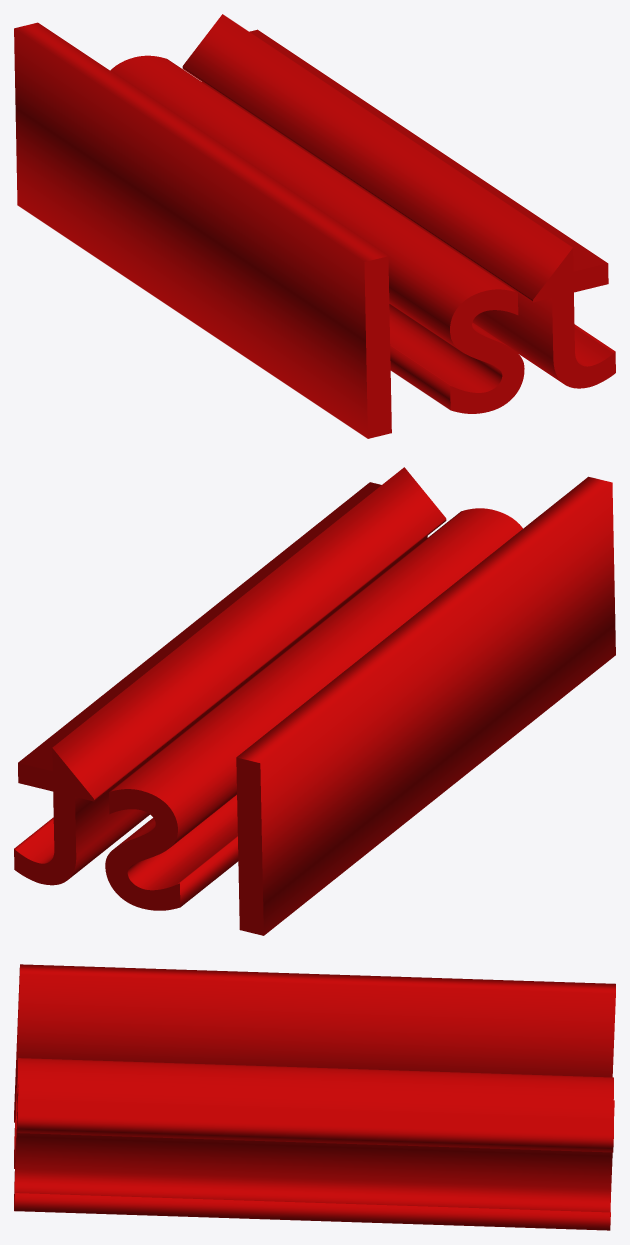
Rendered from stage_1_Text.obj.
3 views of the same model, one above another, from view 1: azimuth 30°, elevation 25°; view 2: azimuth 150°, elevation 25°; view 3: azimuth 270°, elevation 25° (orthographic). The views are drawn at different scales.
Visible parts, largest first — view 1: テキスト; view 2: テキスト; view 3: テキスト.
Boxes of the visible parts, left/top/right/bottom form: テキスト: left=14, top=14, right=615, bottom=438; テキスト: left=14, top=467, right=615, bottom=935; テキスト: left=14, top=964, right=615, bottom=1230.
Bounding box in the file's own units: 1.02 × 0.7799 × 2.51.
